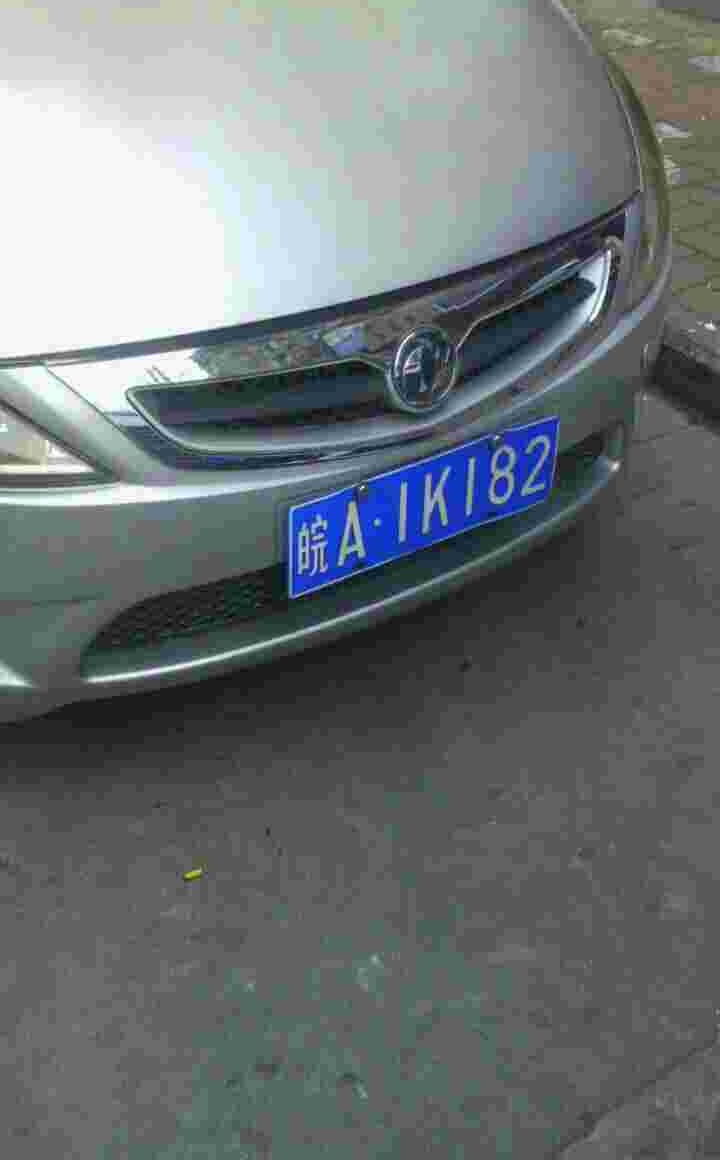license_plate: (288, 418, 559, 597)
